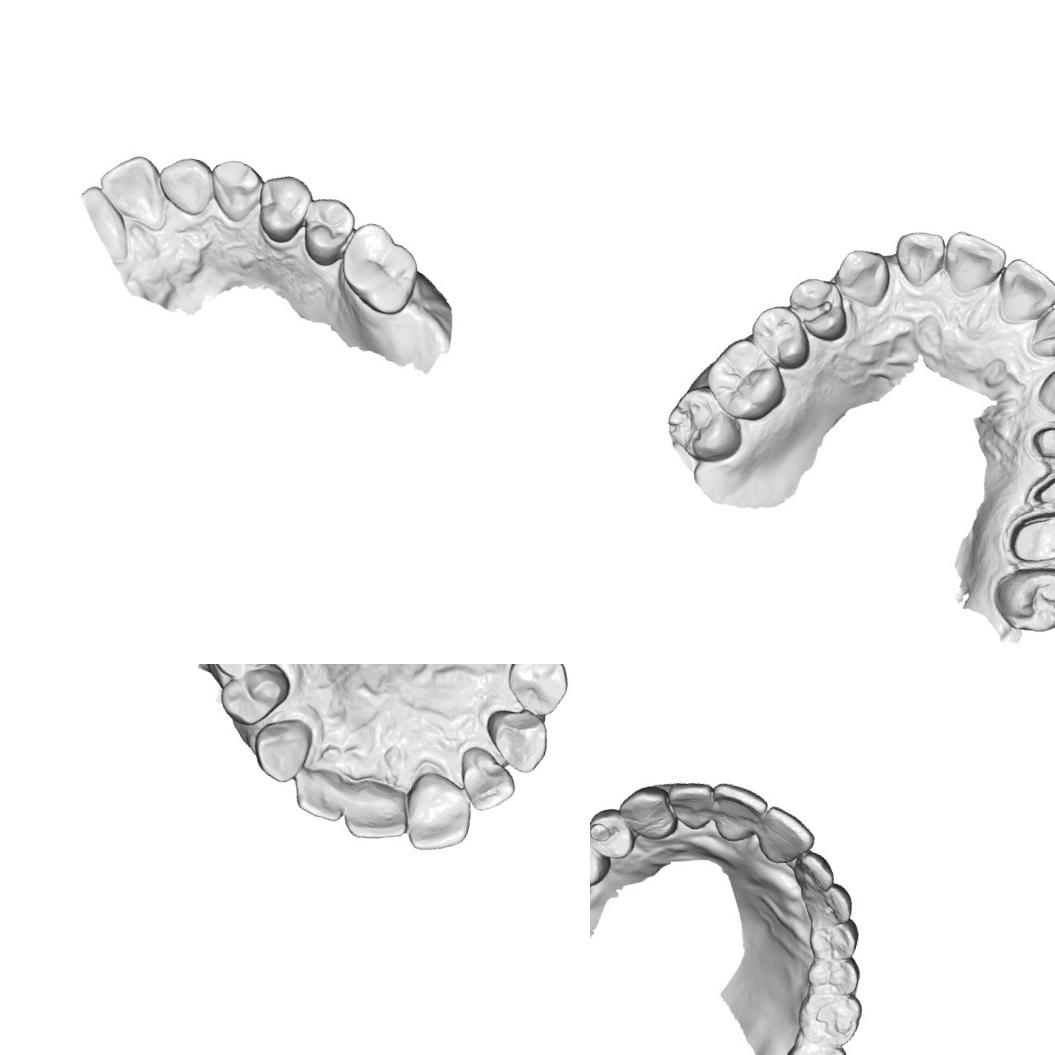canine: (478, 702, 554, 777), (247, 711, 317, 788), (614, 779, 685, 846), (202, 155, 268, 226), (830, 243, 895, 311), (800, 876, 857, 933), (1032, 356, 1055, 425)
crown: (996, 497, 1055, 574), (1022, 457, 1055, 517), (1023, 418, 1055, 470)
incisor: (92, 146, 179, 234), (396, 768, 479, 860), (936, 227, 1011, 303), (339, 775, 416, 849), (990, 252, 1055, 332), (450, 744, 522, 816), (150, 151, 221, 220), (701, 780, 771, 848), (754, 803, 821, 871), (888, 224, 948, 291), (289, 764, 352, 824), (660, 775, 717, 833), (790, 848, 840, 896), (1026, 297, 1055, 365)
molar: (330, 216, 427, 322), (699, 331, 795, 428), (659, 378, 751, 468), (986, 555, 1055, 640), (793, 983, 865, 1048), (777, 1034, 853, 1055)
premolar: (294, 189, 362, 272), (744, 299, 819, 374), (780, 271, 856, 345), (214, 664, 294, 734), (248, 168, 316, 248), (500, 664, 574, 720), (804, 910, 862, 966), (590, 802, 641, 862), (804, 948, 864, 998), (590, 828, 616, 891), (208, 664, 280, 685)
